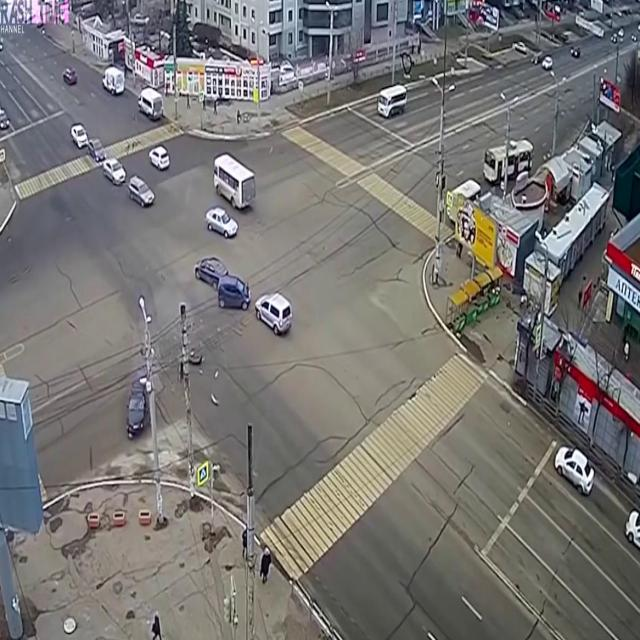accident: (121, 305, 227, 452), (190, 248, 254, 324)
non_accident: (64, 116, 175, 217), (201, 148, 259, 244)
